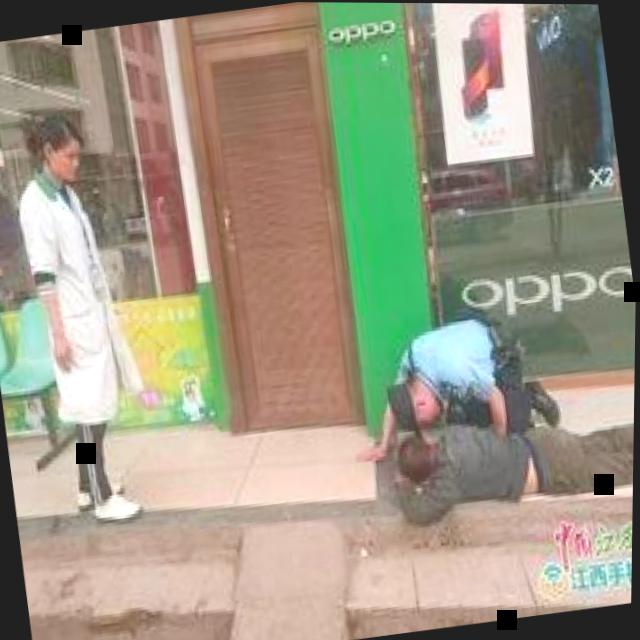Fall-Detected: (365, 376, 636, 531)
